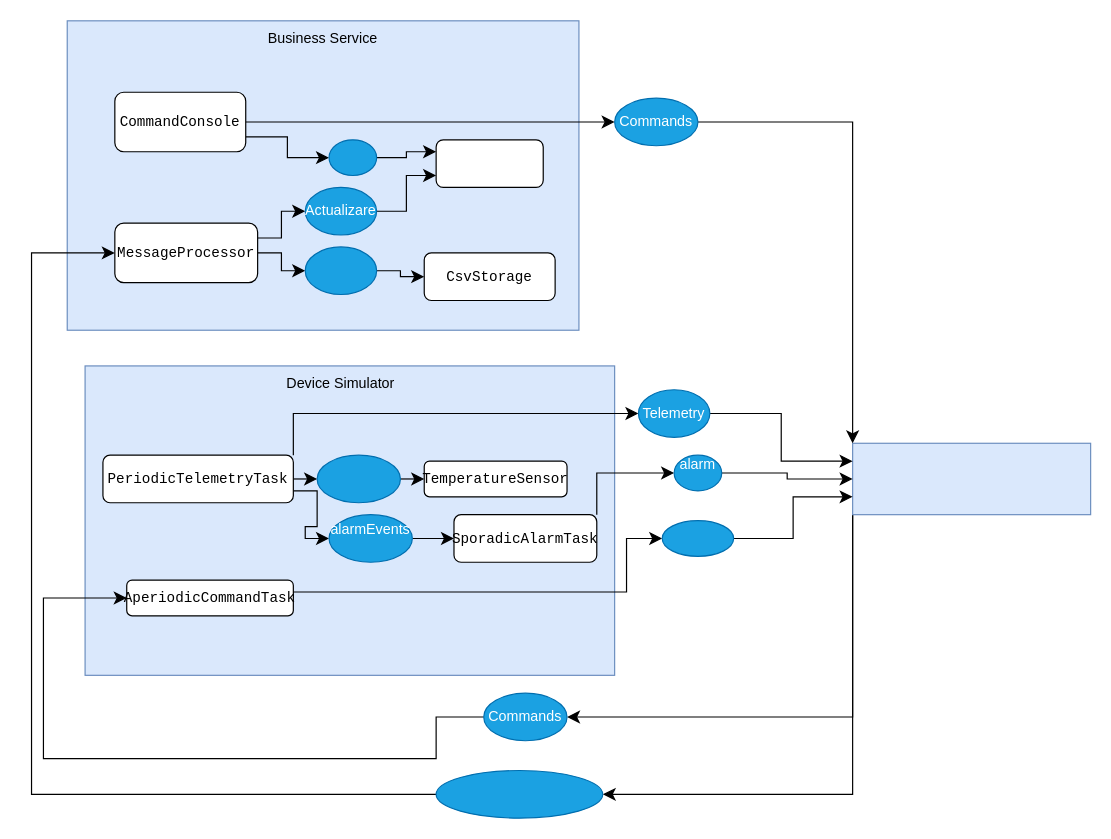
This 1111x839 diagram has some shape labels left out. The centre of each missing label's shape, as x and y in pixels:
"append()" goes at (340,270).
"Dashboard" goes at (489,163).
"MQTT Broker control.aut.utcluj.ro:11188" goes at (971,478).
"read()" goes at (358,478).
"Show" goes at (352,157).
"status" goes at (697,537).
"Telemetry/alarm/status" goes at (519,793).
